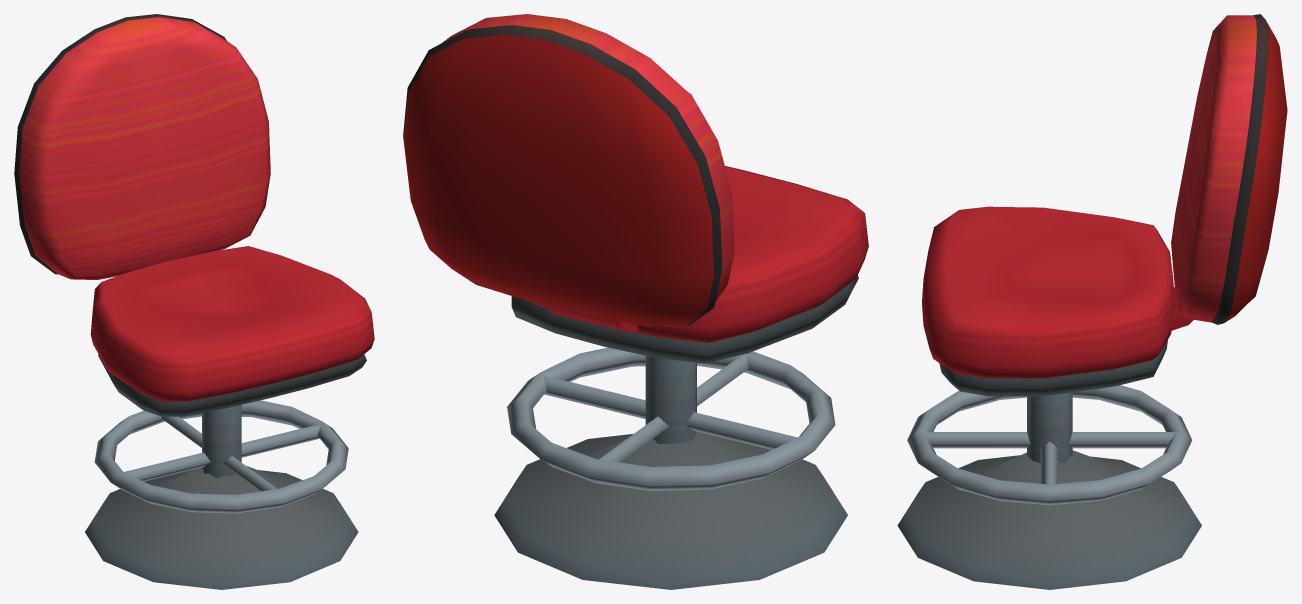
File: chair-06.glb
3 renders of one model, left to right at view 1: azimuth 30°, elevation 25°; view 2: azimuth 150°, elevation 25°; view 3: azimuth 270°, elevation 25°, orthographic. The views are drawn at different scales.
Visible parts, largest first — view 1: Chair_06; view 2: Chair_06; view 3: Chair_06.
Part boxes in pixels (x1,y1,x2,y2): Chair_06: [14, 14, 374, 589]; Chair_06: [403, 14, 868, 589]; Chair_06: [897, 14, 1287, 589].
Size of the model in its own units: 0.6326 by 1.1 by 0.786.
2 materials, 1 textured.
